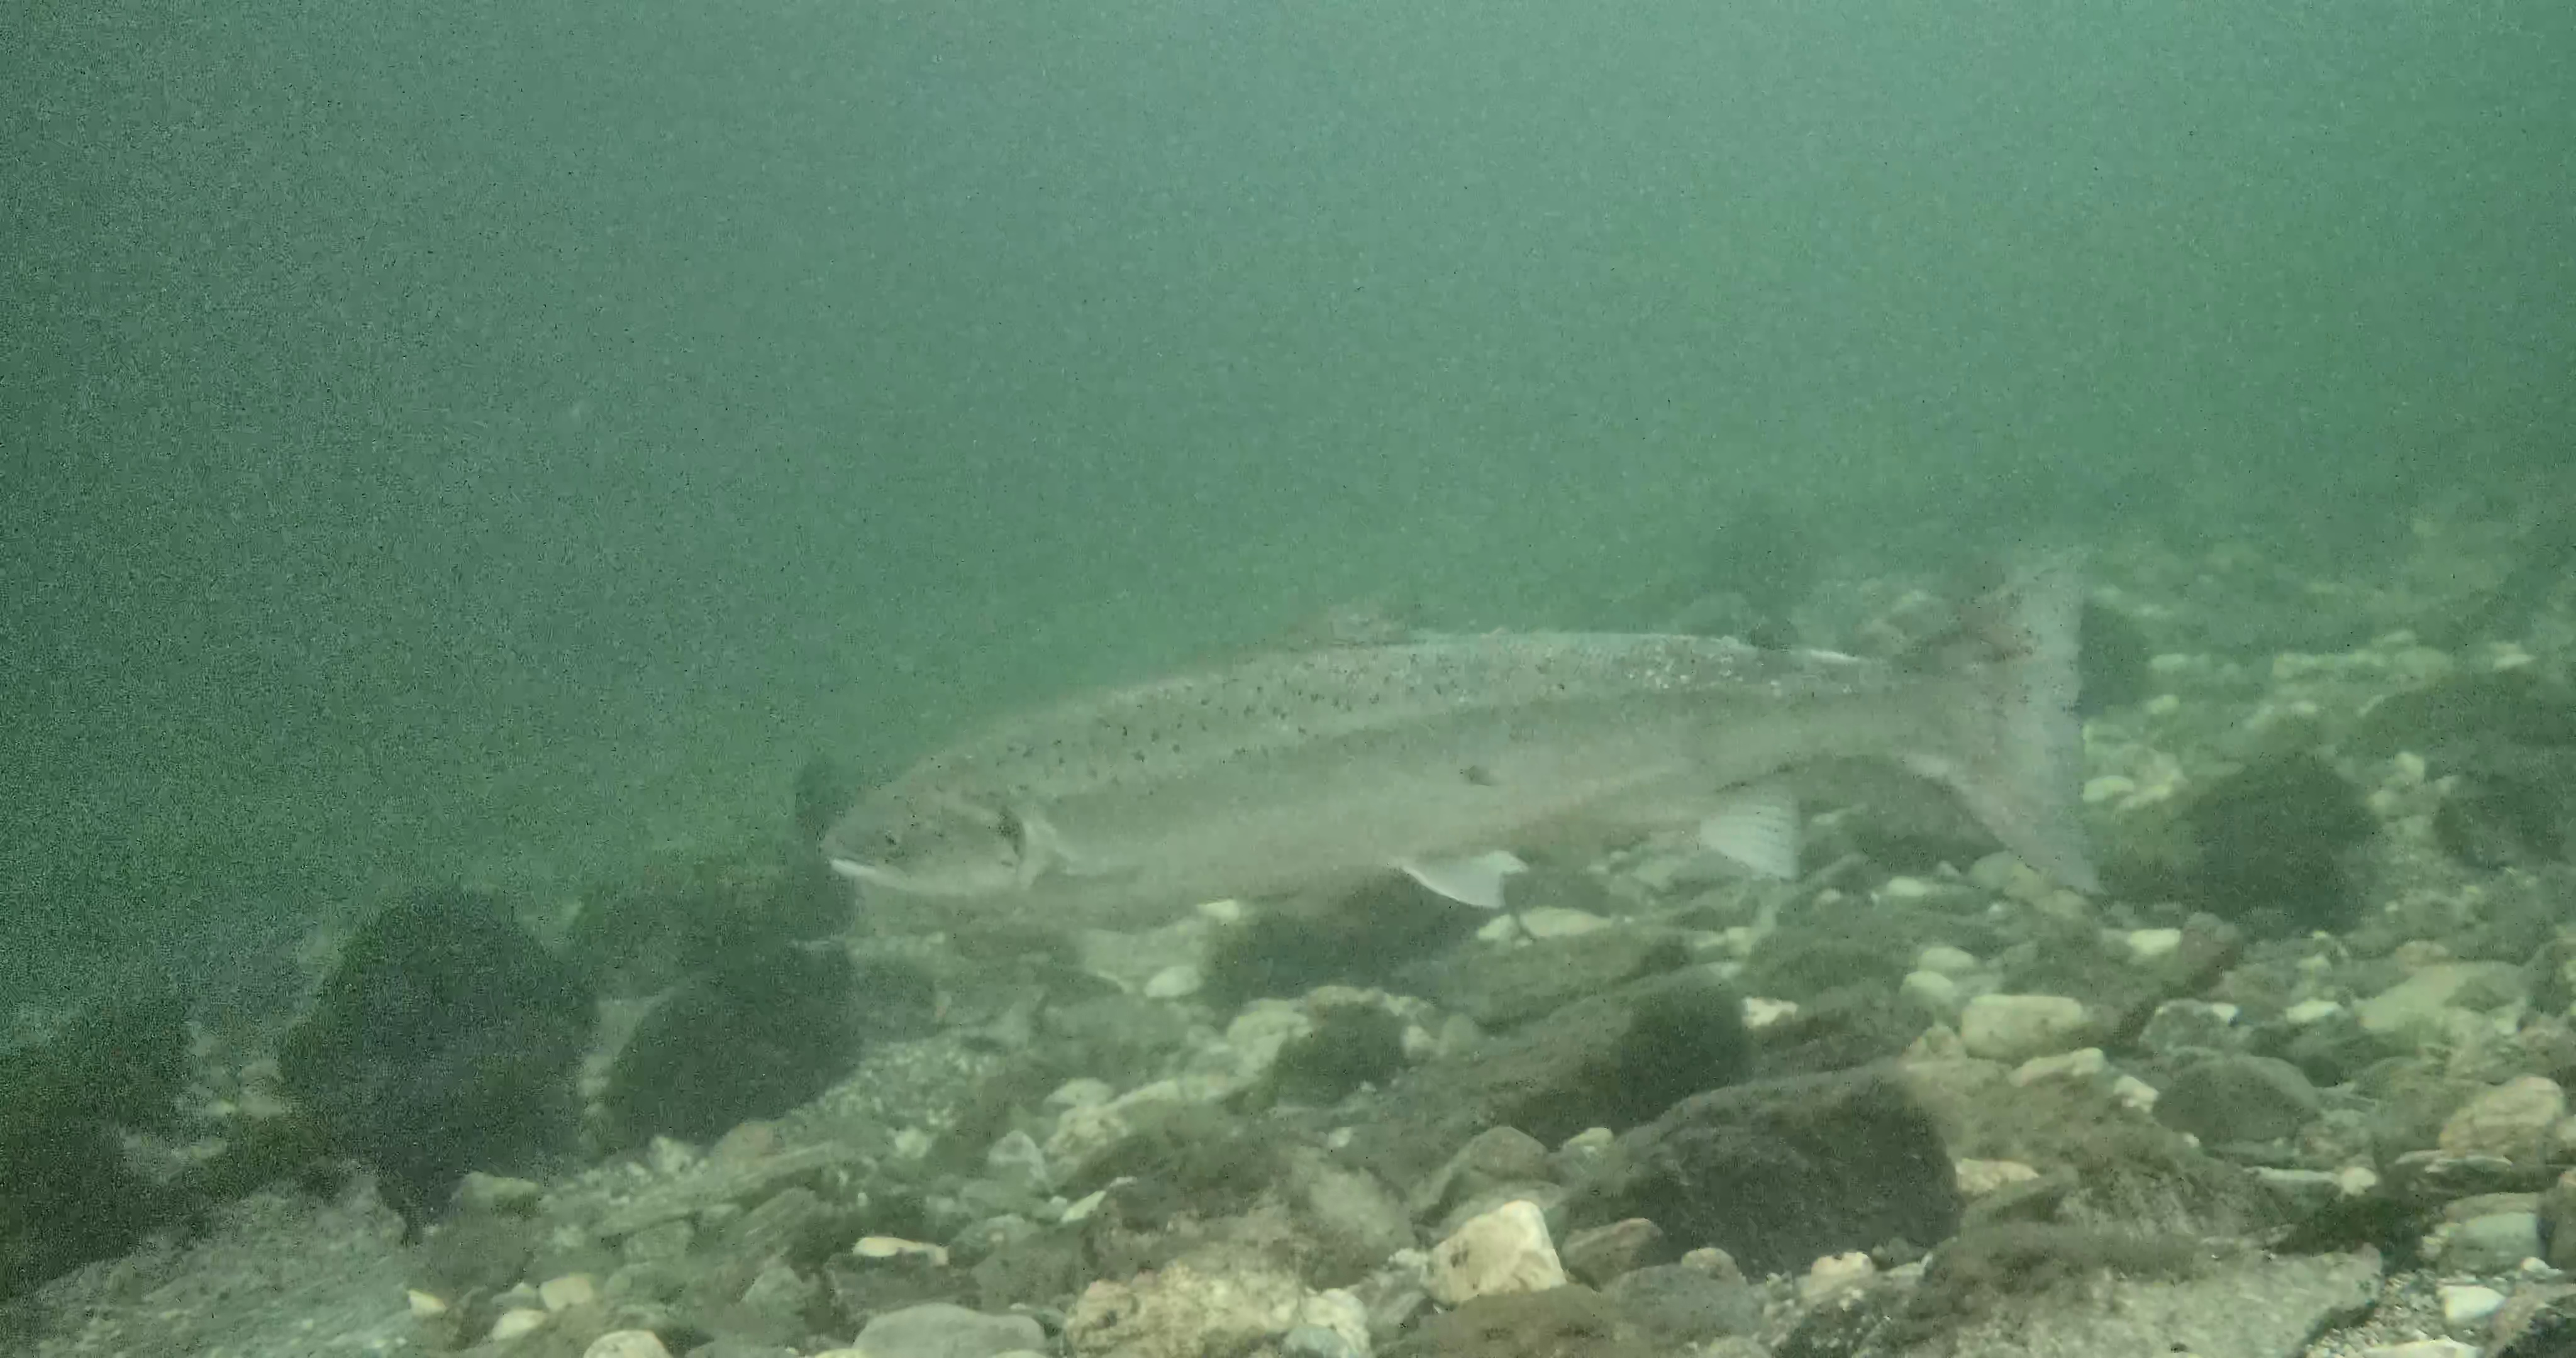salmon: (814, 542, 2114, 920)
